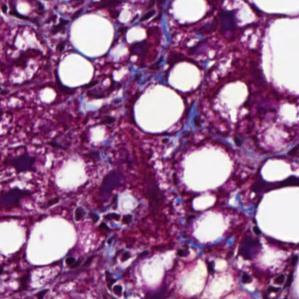inflammation: (69, 203, 136, 256), (118, 29, 171, 78), (233, 264, 294, 299), (99, 269, 154, 299)
